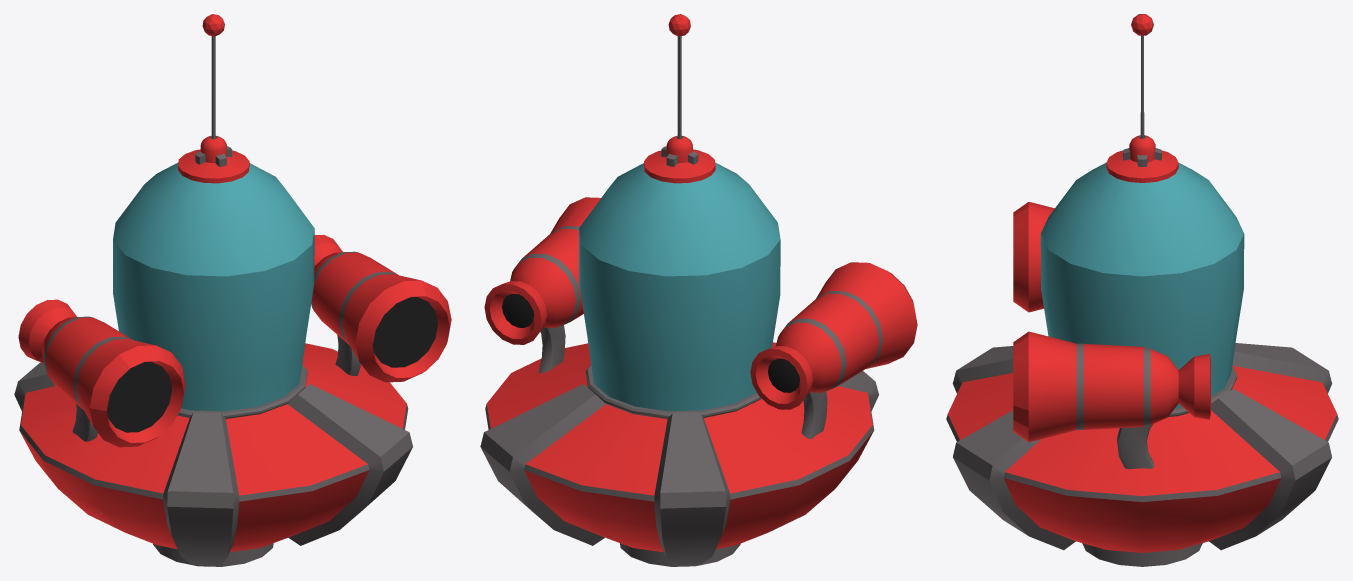
The model's file is UFO.glb.
3 views of the same model, side by side, from view 1: azimuth 30°, elevation 25°; view 2: azimuth 150°, elevation 25°; view 3: azimuth 270°, elevation 25° (orthographic).
Visible parts, largest first — view 1: UFO; view 2: UFO; view 3: UFO.
Boxes of the visible parts, box(x1,y1,x2,y2) form: UFO: box(14, 14, 451, 566); UFO: box(480, 14, 917, 566); UFO: box(946, 14, 1338, 566).
Bounding box in the file's own units: 1.37 × 1.95 × 1.29.
